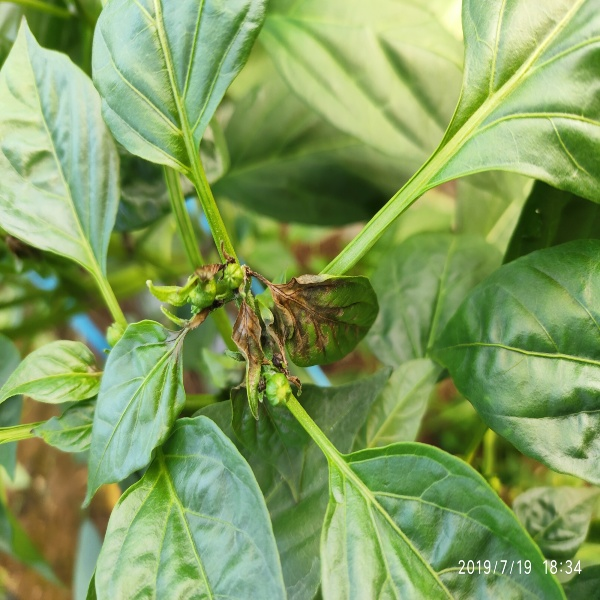blight: (271, 271, 363, 358), (190, 242, 271, 295), (162, 308, 211, 366), (232, 303, 264, 369)
